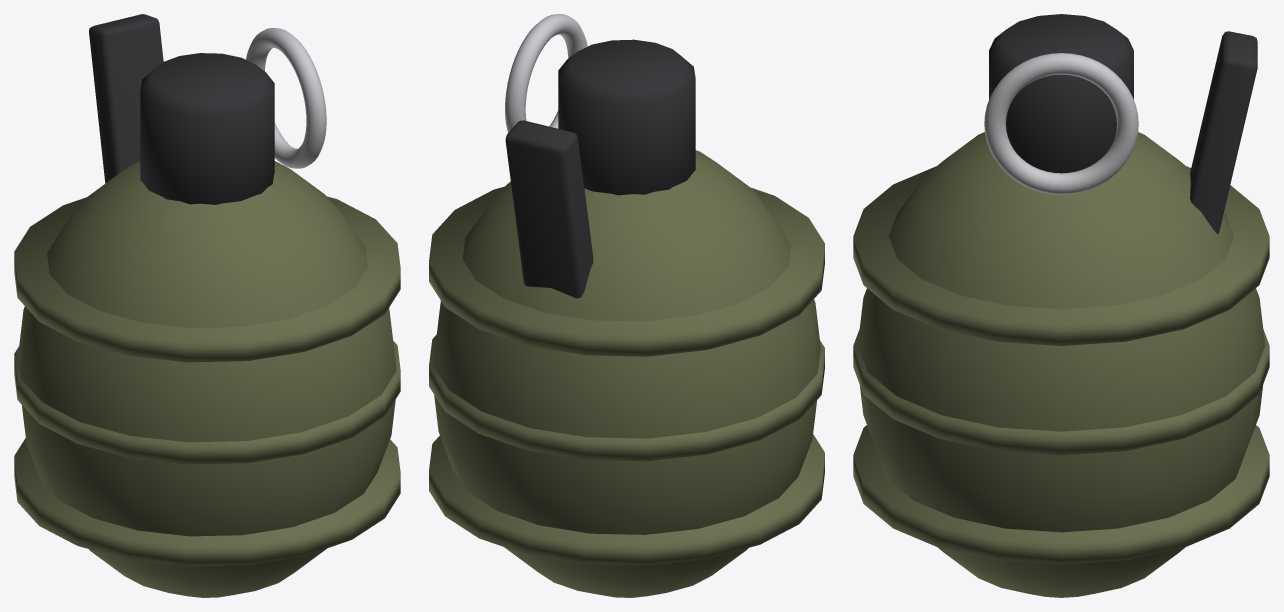
The model's file is grenade.glb.
3 renders of one model, left to right at view 1: azimuth 30°, elevation 25°; view 2: azimuth 150°, elevation 25°; view 3: azimuth 270°, elevation 25°, orthographic. The views are drawn at different scales.
Visible parts, largest first — view 1: Olive, Gunmetal, Steel; view 2: Olive, Gunmetal, Steel; view 3: Olive, Gunmetal, Steel.
Part boxes in pixels (<box>): Olive: <box>14,161,400,597</box>; Gunmetal: <box>89,14,274,204</box>; Steel: <box>246,28,326,168</box>; Olive: <box>429,150,824,597</box>; Gunmetal: <box>505,39,695,298</box>; Steel: <box>505,14,587,132</box>; Olive: <box>853,132,1269,597</box>; Gunmetal: <box>989,14,1257,233</box>; Steel: <box>984,53,1138,194</box>.
Bounding box in the file's own units: 0.069 × 0.1043 × 0.069.
